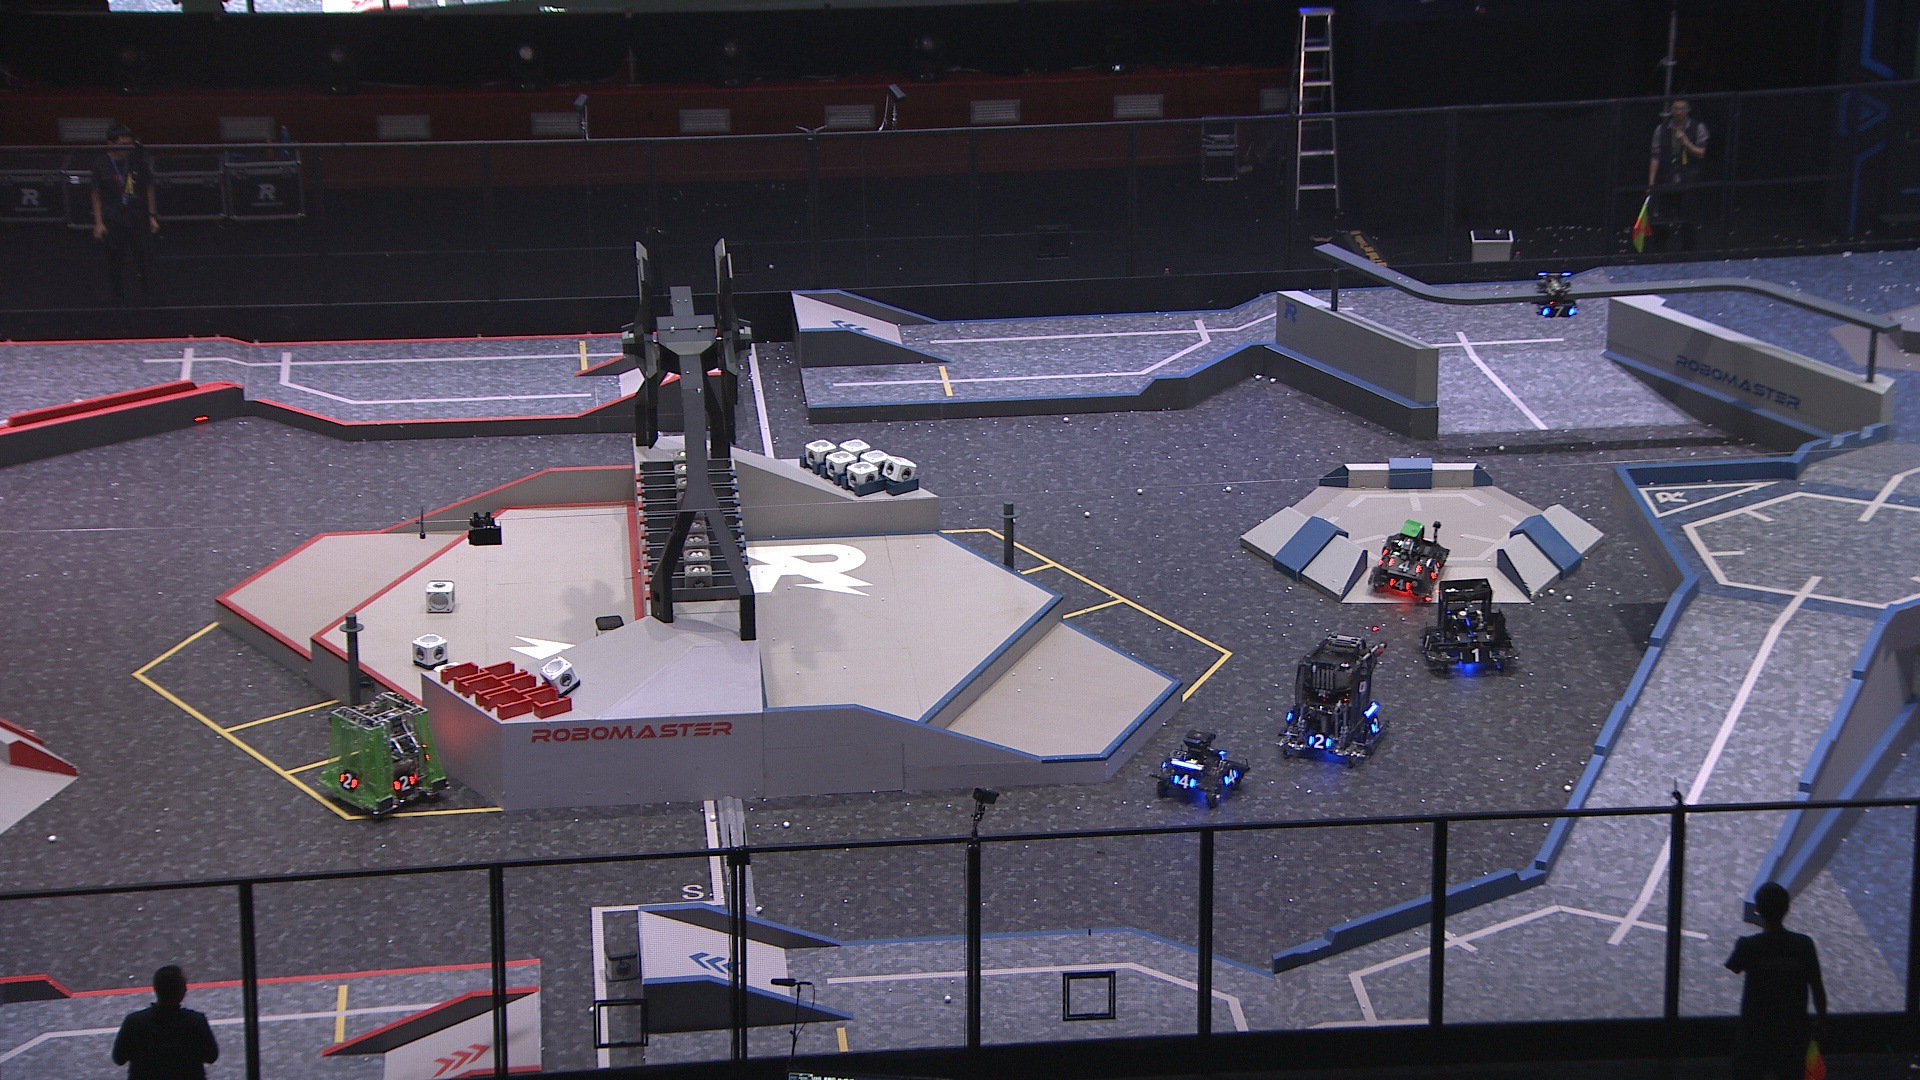armor: (1386, 556, 1423, 576), (1458, 646, 1494, 666), (1456, 629, 1491, 647), (392, 773, 418, 793), (1307, 732, 1333, 752), (338, 771, 361, 793), (1543, 305, 1576, 319), (1172, 774, 1200, 790), (1221, 767, 1242, 787), (1387, 576, 1414, 591), (1367, 716, 1385, 736), (1420, 632, 1436, 651), (1429, 560, 1443, 579)
car: (316, 692, 451, 820), (1276, 636, 1390, 769), (1420, 579, 1523, 674), (1153, 728, 1251, 806), (1367, 518, 1449, 604)
watcher: (1532, 270, 1580, 319)
